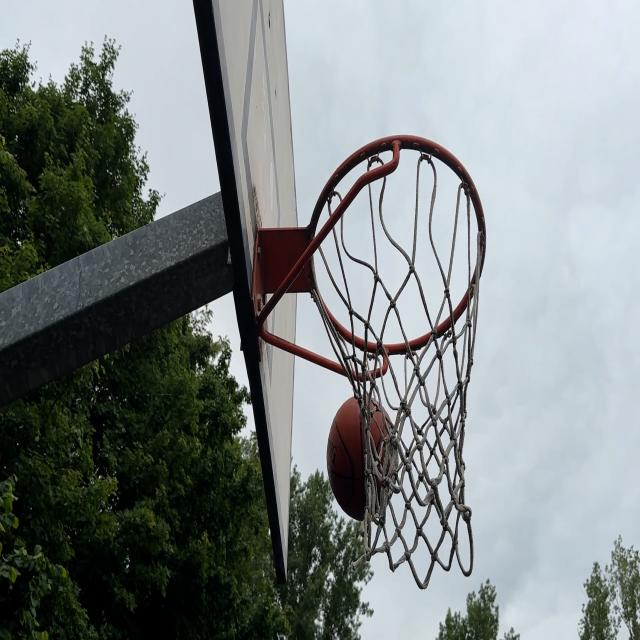Basketball: (328, 397, 397, 522)
